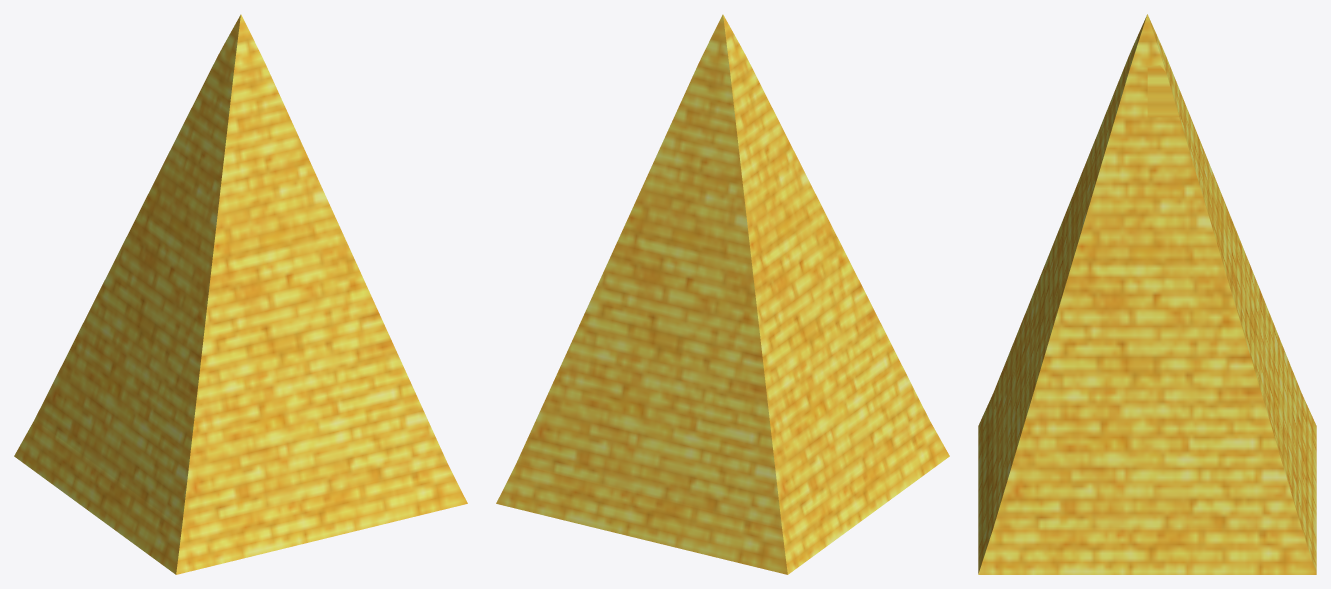
3 views of the same model, side by side, from view 1: azimuth 30°, elevation 25°; view 2: azimuth 150°, elevation 25°; view 3: azimuth 270°, elevation 25° (orthographic). The views are drawn at different scales.
Visible parts, largest first — view 1: Pyramid; view 2: Pyramid; view 3: Pyramid.
Part boxes in pixels (<box>): Pyramid: <box>14,14,467,574</box>; Pyramid: <box>496,14,949,574</box>; Pyramid: <box>978,14,1316,574</box>.
Size of the model in its own units: 7463 by 11389 by 7181.
1 material, 1 textured.
